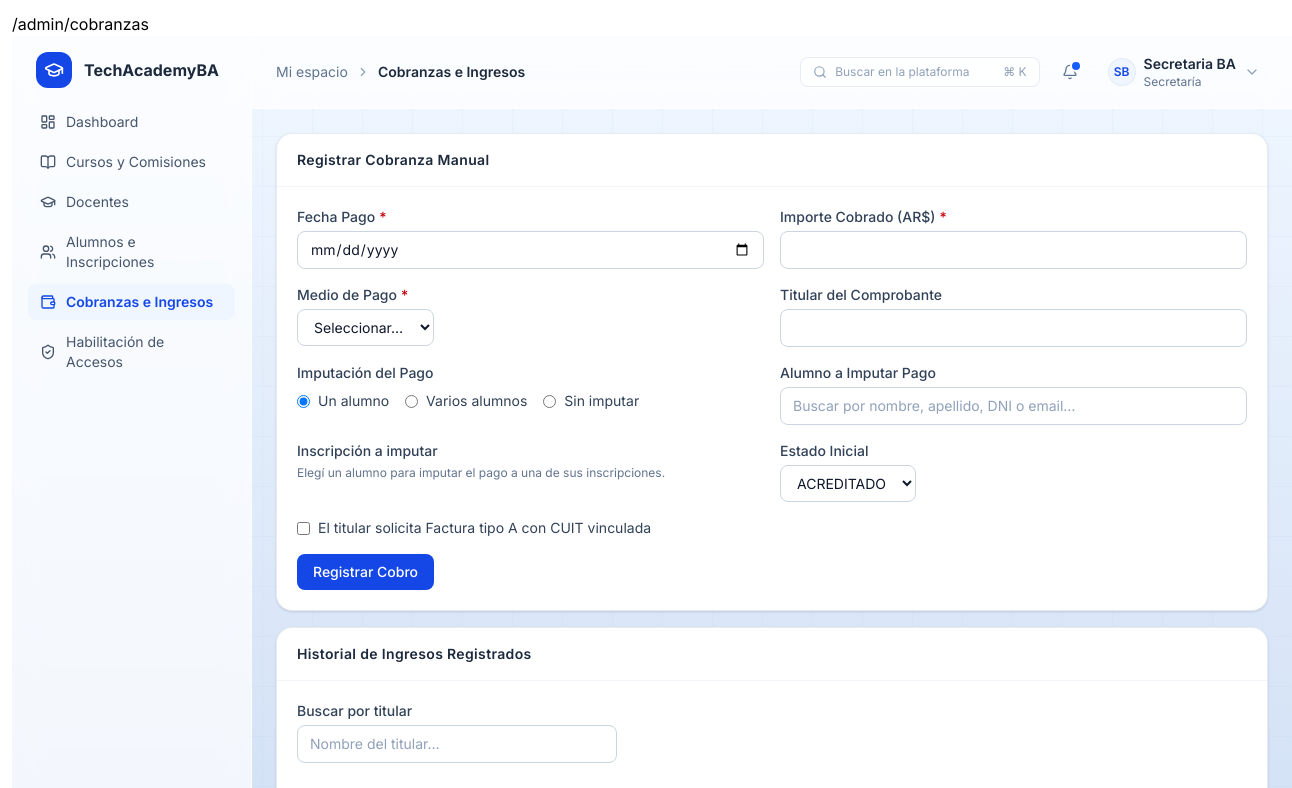
Test case: formulario de registro › no registra el cobro sin fecha, importe o medio de pago
Expected: the heading "Historial de Ingresos Registrados" is shown, left=297, top=644, right=532, bottom=664
Click the button "Registrar Cobro".
click(366, 572)  # box left=297, top=554, right=434, bottom=590
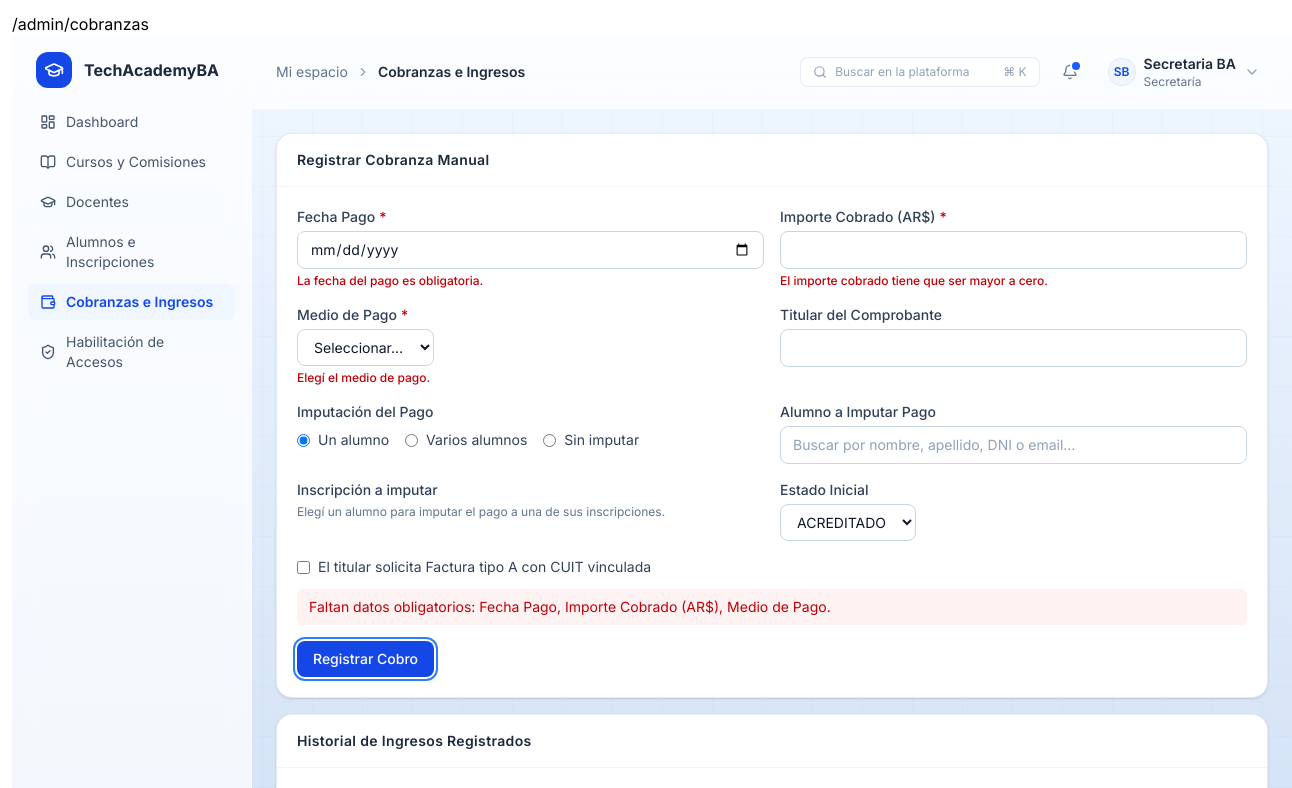
Now the text "Faltan datos obligatorios: Fecha Pago, Importe Cobrado (AR$), Medio de Pago." is shown, box left=297, top=589, right=1247, bottom=625
